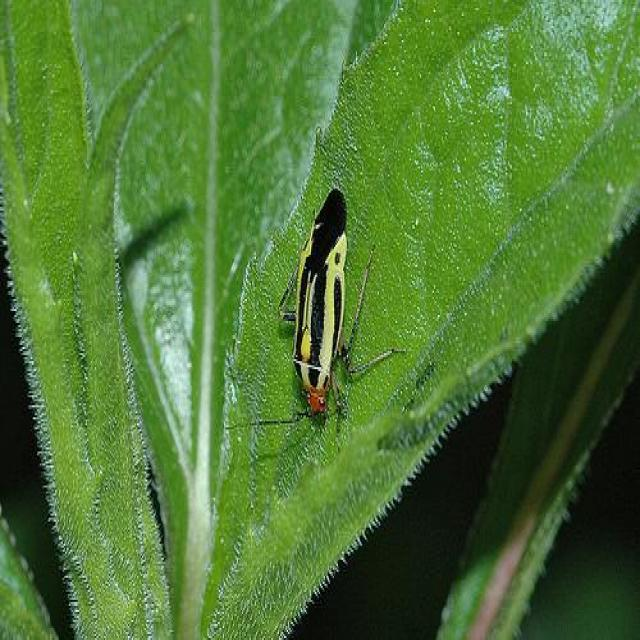Miridae-Adult-: (273, 170, 404, 434)
